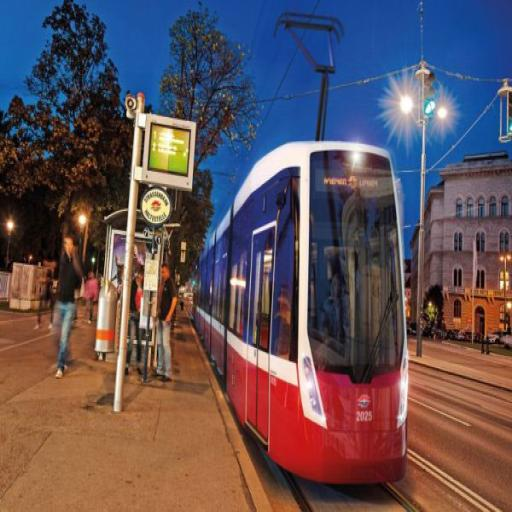Flexity: (192, 133, 413, 485)
